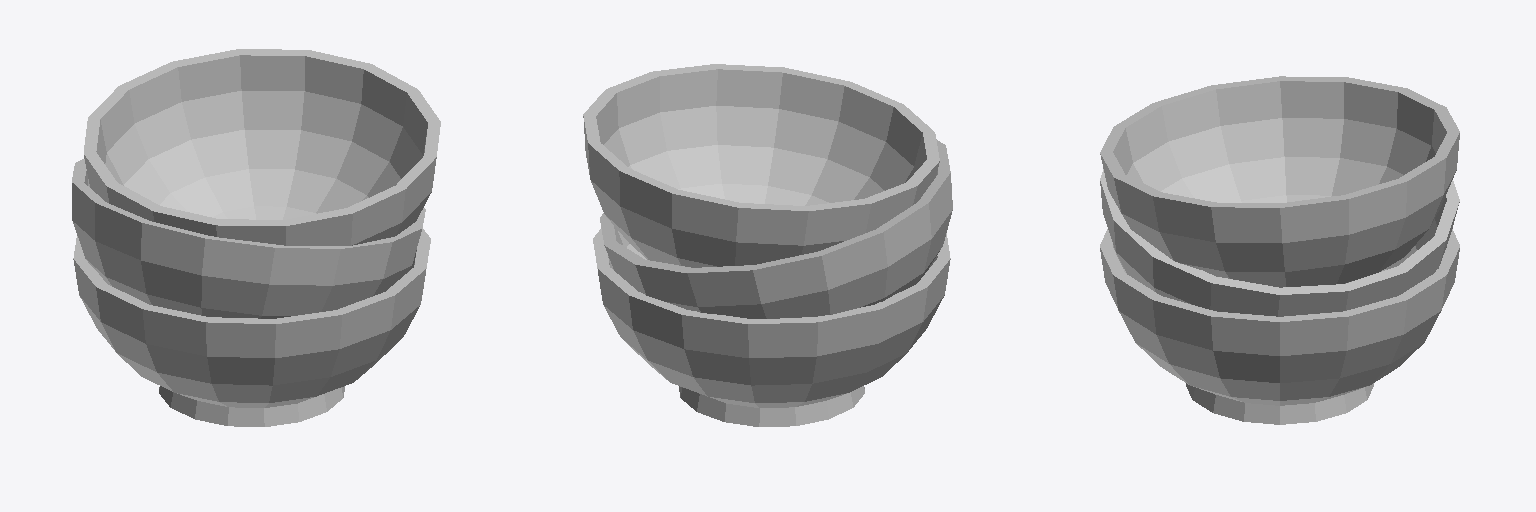
The model's file is ChineseBowlStack_1.obj.
3 views of the same model, side by side, from view 1: azimuth 30°, elevation 25°; view 2: azimuth 150°, elevation 25°; view 3: azimuth 270°, elevation 25° (orthographic).
Visible parts, largest first — view 1: pSphere5; view 2: pSphere5; view 3: pSphere5.
Part boxes in pixels (left/top/right/bottom): pSphere5: left=72, top=49, right=440, bottom=426; pSphere5: left=583, top=64, right=952, bottom=426; pSphere5: left=1100, top=76, right=1459, bottom=424.
Bounding box in the file's own units: 2.82 × 2.18 × 2.71.